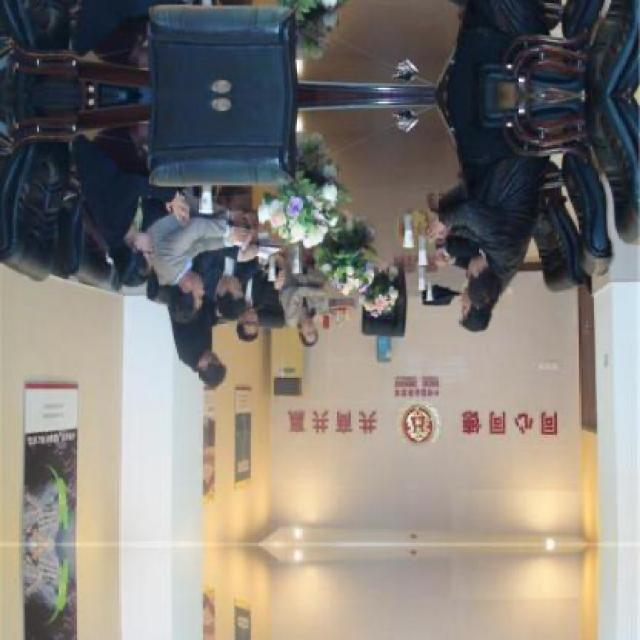sin casco: (61, 194, 185, 276), (417, 230, 520, 286), (182, 261, 259, 325), (137, 258, 216, 317), (412, 274, 488, 326), (170, 346, 224, 394), (226, 304, 282, 350), (284, 309, 312, 360)
